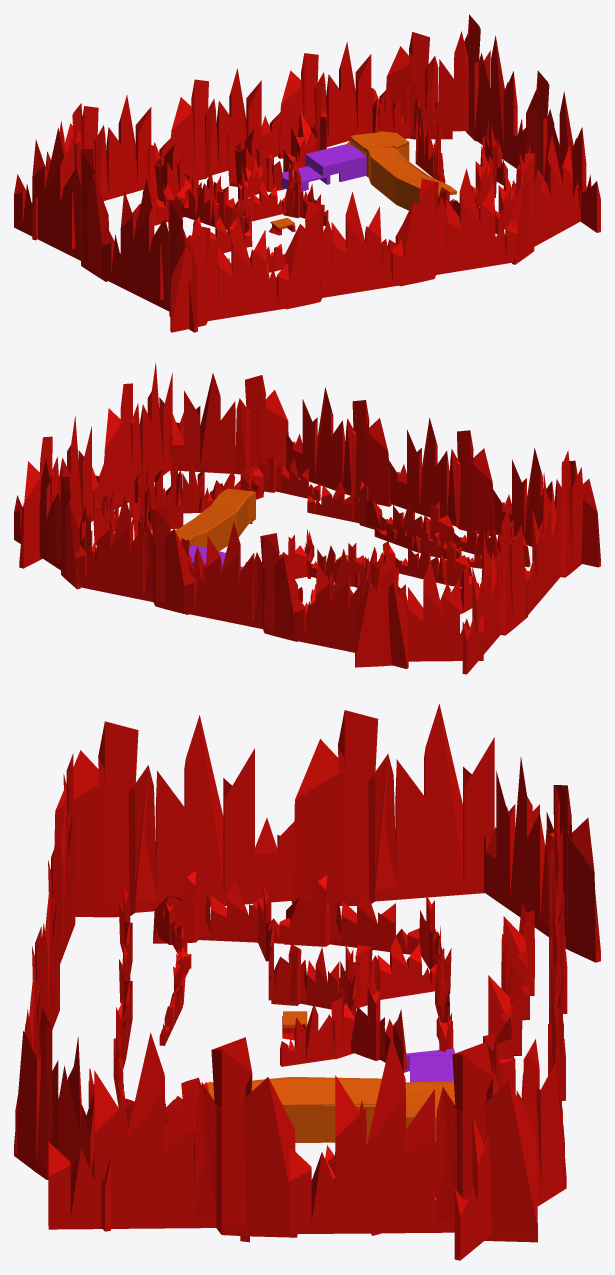
3 renders of one model, top to bottom at view 1: azimuth 30°, elevation 25°; view 2: azimuth 150°, elevation 25°; view 3: azimuth 270°, elevation 25°, orthographic. The views are drawn at different scales.
Parts seen in each view (by area): view 1: Cube.041, Cube.015, Cube.013, Cube.003, Cube.012; view 2: Cube.041, Cube.015; view 3: Cube.041, Cube.015, Cube.003, Cube.013.
Part boxes in pixels (x1,y1,x2,y2): Cube.041: [14, 14, 600, 332]; Cube.015: [350, 132, 456, 210]; Cube.013: [305, 144, 366, 181]; Cube.003: [345, 131, 439, 196]; Cube.012: [284, 166, 330, 191]; Cube.041: [14, 362, 600, 674]; Cube.015: [175, 488, 255, 551]; Cube.041: [14, 704, 600, 1260]; Cube.015: [208, 1077, 455, 1111]; Cube.003: [282, 1092, 440, 1142]; Cube.013: [410, 1059, 453, 1082].
Bounding box in the file's own units: 4.95 × 1.32 × 3.27.
